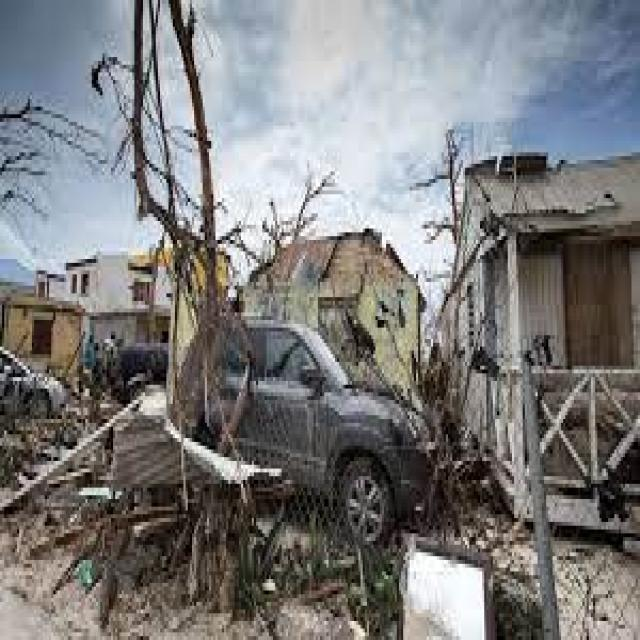Hurricane: (38, 110, 587, 640)
